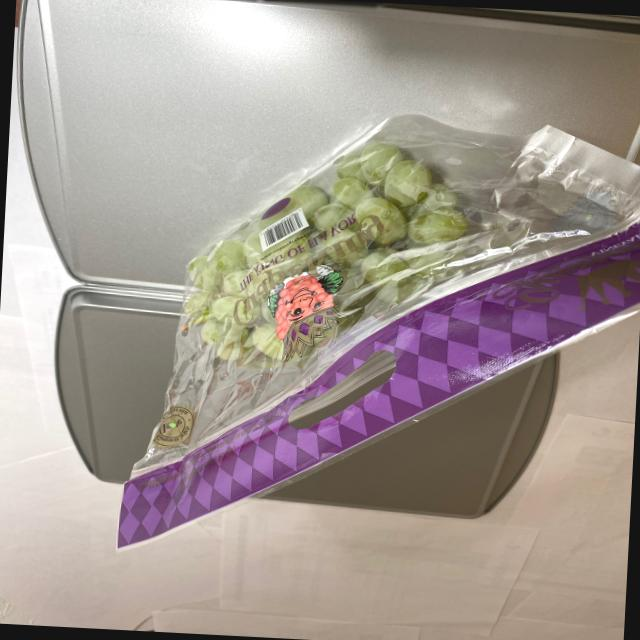grapes: (188, 125, 472, 390)
